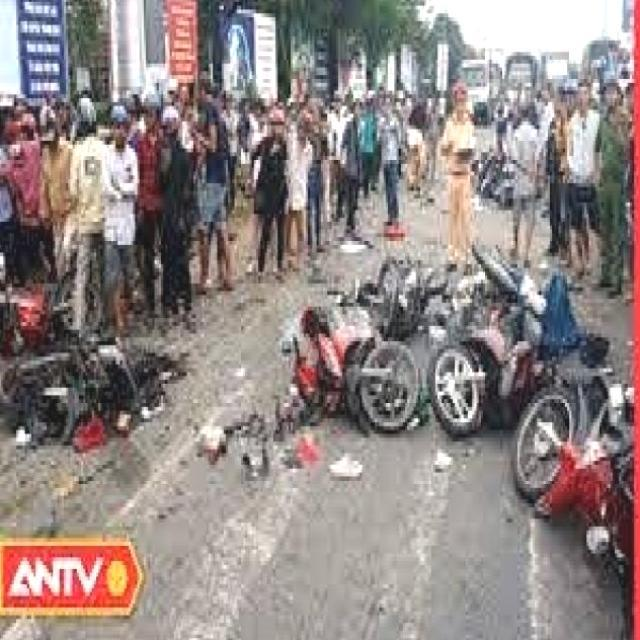accident: (285, 213, 640, 583), (6, 275, 195, 445)
